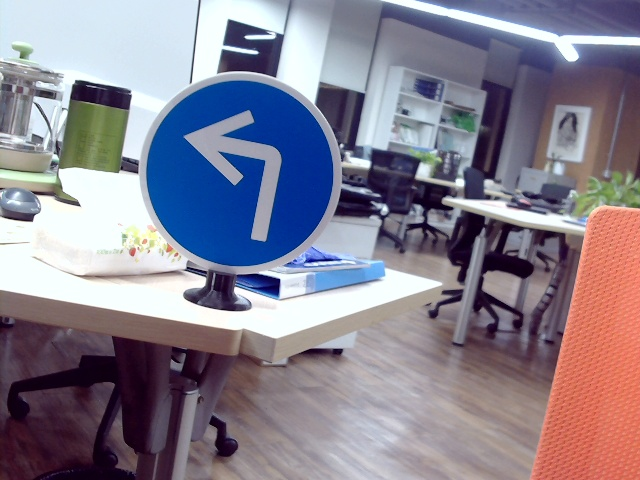turn_left: (184, 104, 283, 244)
